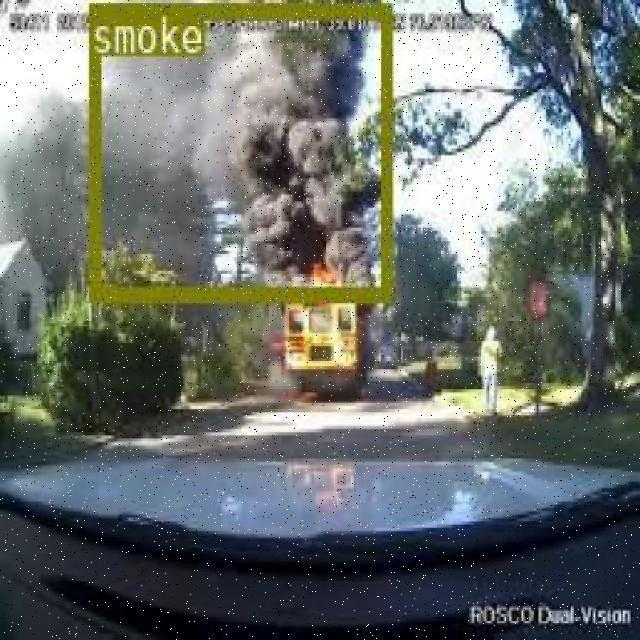Smoke: (86, 0, 389, 233)
